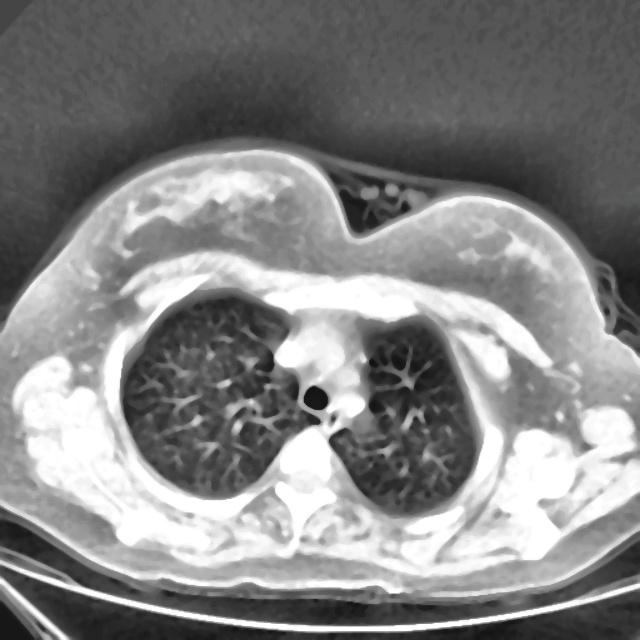covid: (0, 136, 639, 606)
